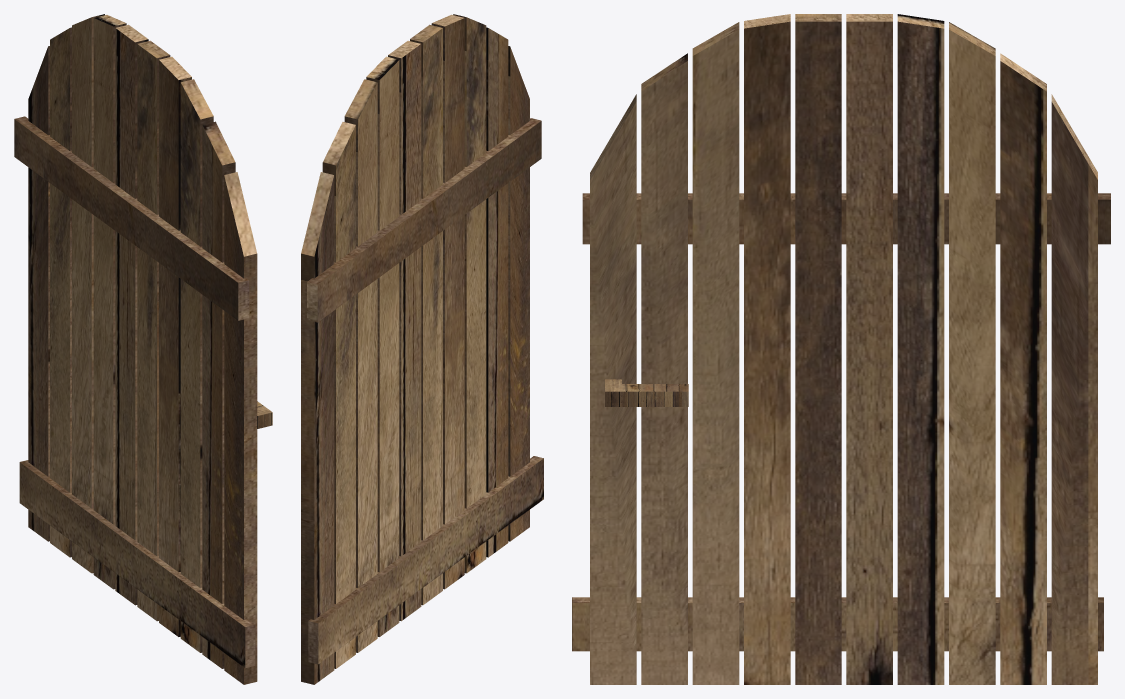
Rendered from gates.fbx.
3 renders of one model, left to right at view 1: azimuth 30°, elevation 25°; view 2: azimuth 150°, elevation 25°; view 3: azimuth 270°, elevation 25°, orthographic. The views are drawn at different scales.
Parts seen in each view (by area): view 1: Cube.016; view 2: Cube.016; view 3: Cube.016.
Boxes of the visible parts, x1,y1,x2,y2 form: Cube.016: (14, 14, 272, 684); Cube.016: (301, 14, 543, 684); Cube.016: (572, 14, 1110, 684).
Size of the model in its own units: 23.2 by 285 by 210.
1 material, 1 textured.
